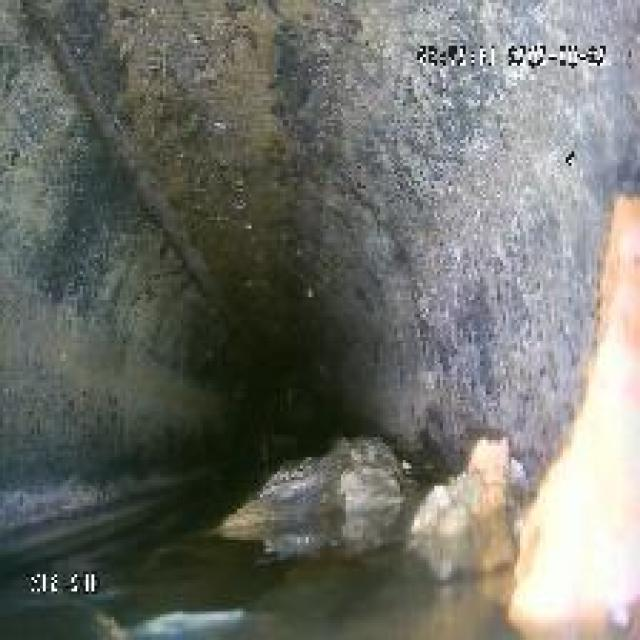stone: (212, 408, 534, 586)
